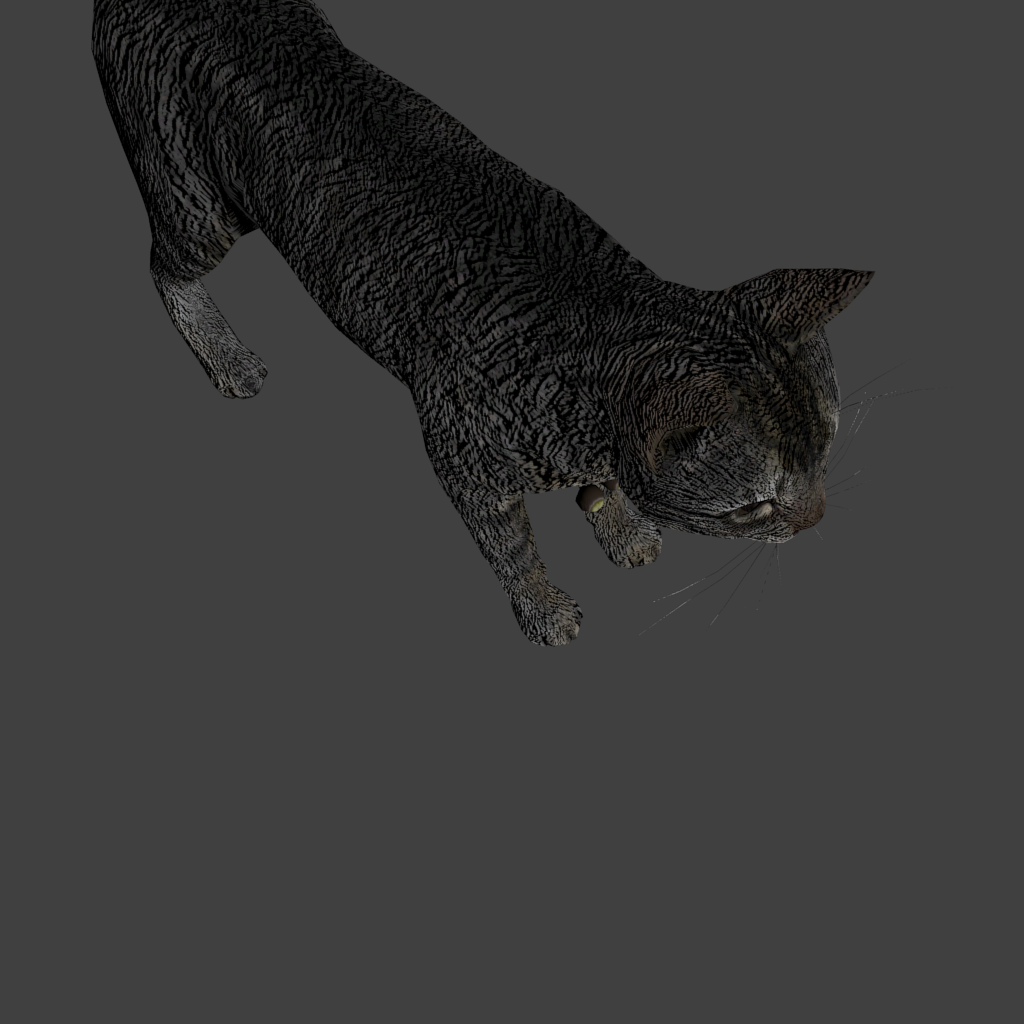Cat: (0, 0, 961, 647)
